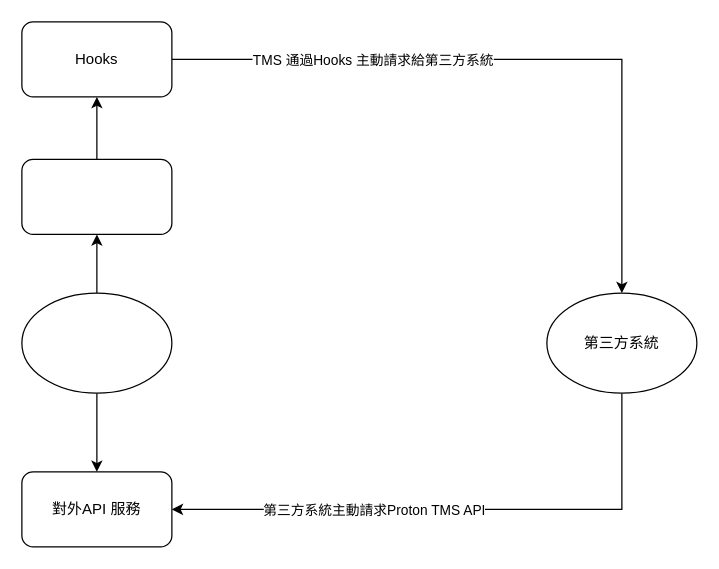
Image size: 719x569. Some labels were removed from this diagram. The shapes that lost their labels are listed below. From the top down, each one's centre as x and y in pixels, then its label:
At (96,196): "小後台配置Hooks".
At (96,342): "Proton TMS Saas".
